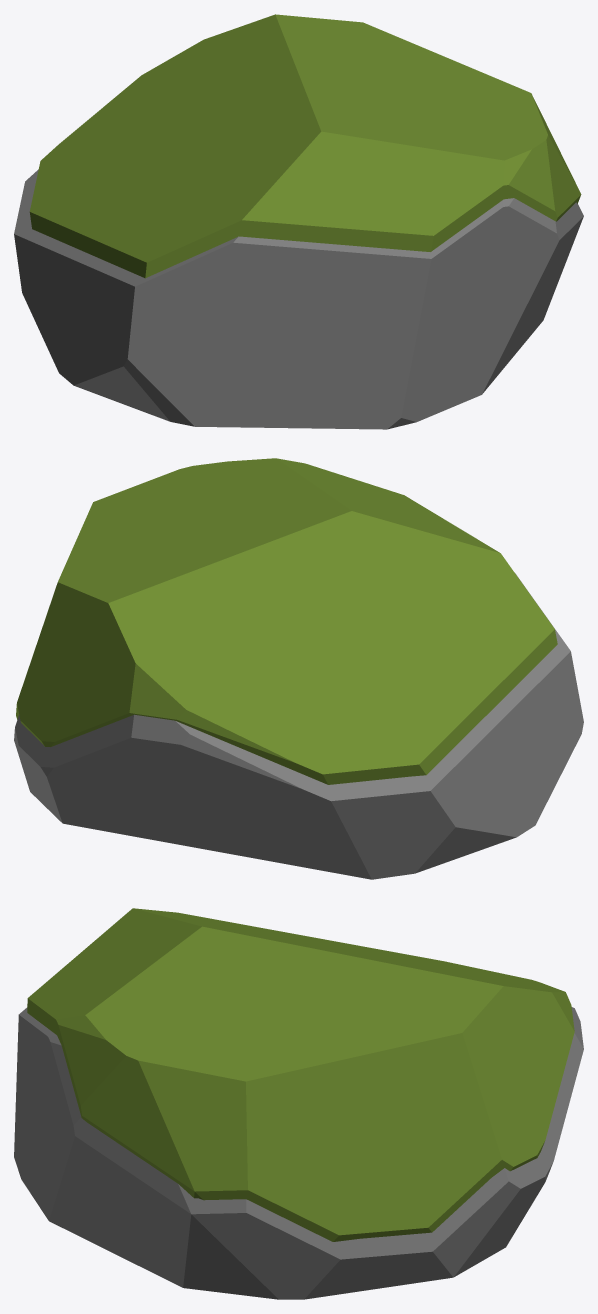
File: Stone_4_moss_mat.fbx
3 views of the same model, one above another, from view 1: azimuth 30°, elevation 25°; view 2: azimuth 150°, elevation 25°; view 3: azimuth 270°, elevation 25° (orthographic). The views are drawn at different scales.
Parts seen in each view (by area): view 1: Stone_4_moss_mat; view 2: Stone_4_moss_mat; view 3: Stone_4_moss_mat.
Boxes of the visible parts, x1=… form: Stone_4_moss_mat: x1=14, y1=14, x2=583, y2=429; Stone_4_moss_mat: x1=14, y1=458, x2=583, y2=879; Stone_4_moss_mat: x1=14, y1=908, x2=583, y2=1299.
Bounding box in the file's own units: 3.65 × 1.74 × 3.58.
